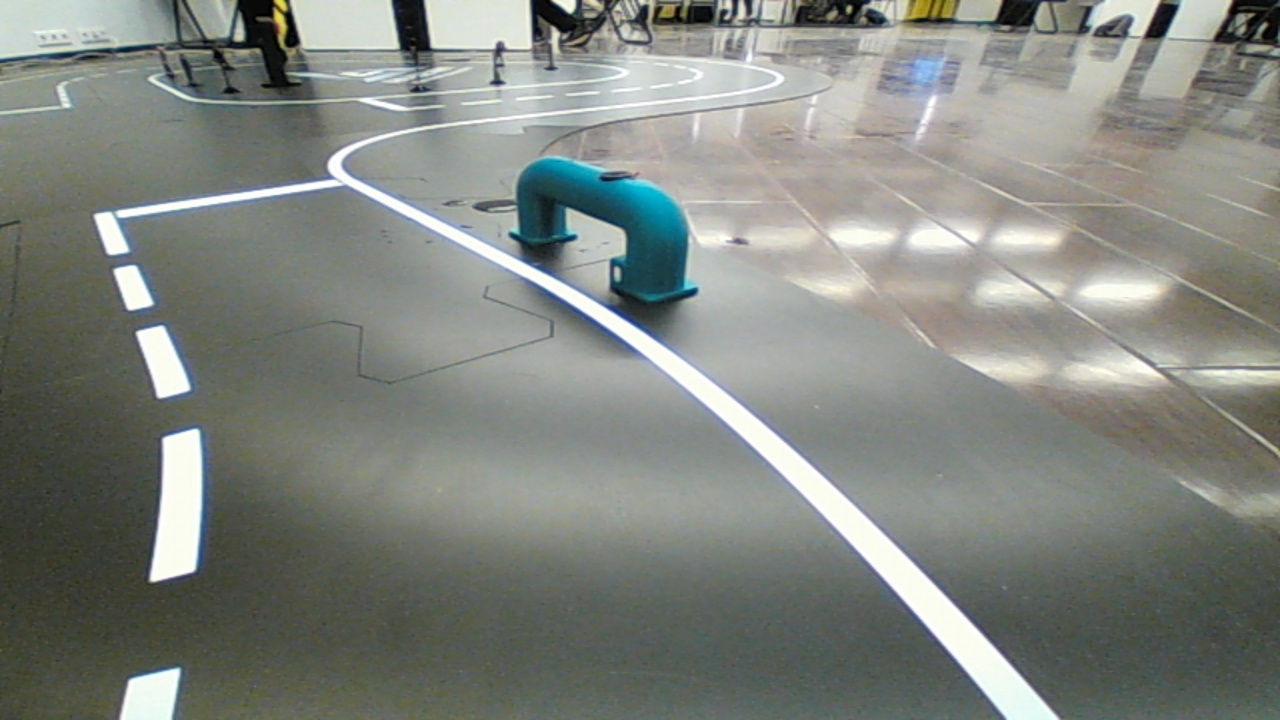Pedestrian crossing: (494, 133, 709, 320)
